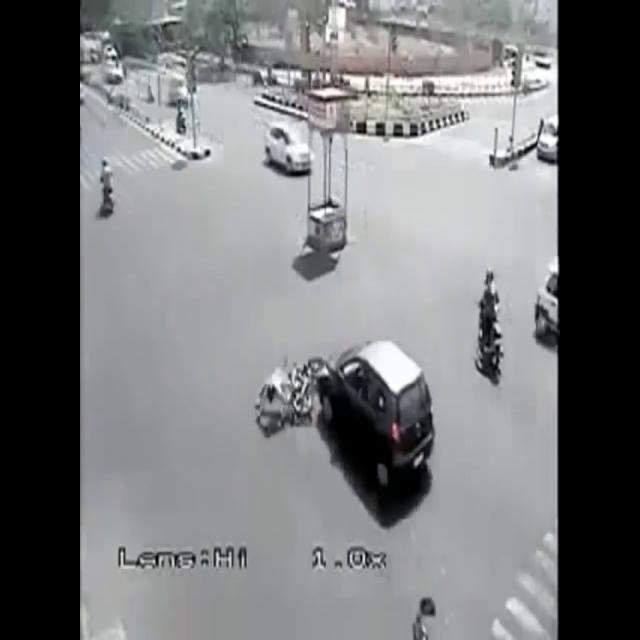accident: (254, 338, 436, 492)
